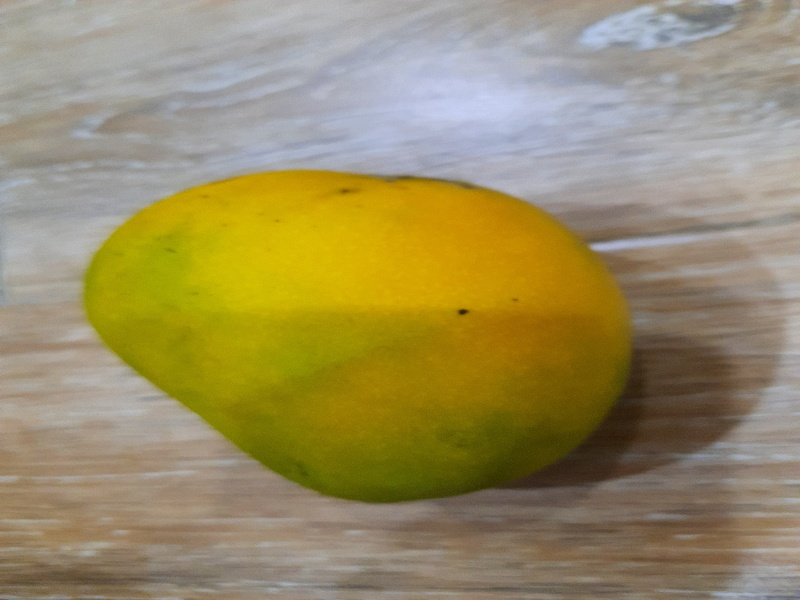fruit: (81, 169, 637, 511)
